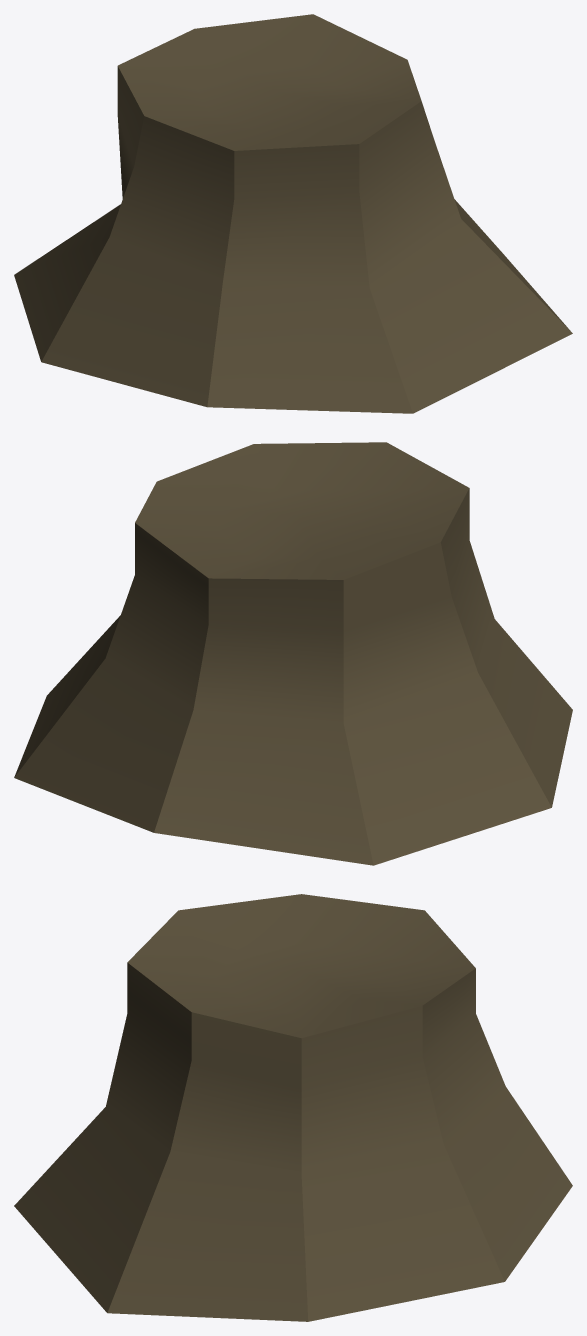
Rendered from model_stump.fbx.
3 renders of one model, top to bottom at view 1: azimuth 30°, elevation 25°; view 2: azimuth 150°, elevation 25°; view 3: azimuth 270°, elevation 25°, orthographic. The views are drawn at different scales.
Visible parts, largest first — view 1: pCylinder1; view 2: pCylinder1; view 3: pCylinder1.
Boxes of the visible parts, box(x1,y1,x2,y2) form: pCylinder1: box(14, 14, 572, 413); pCylinder1: box(14, 442, 572, 865); pCylinder1: box(14, 894, 572, 1321).
Bounding box in the file's own units: 5.38 × 2.62 × 5.29.
